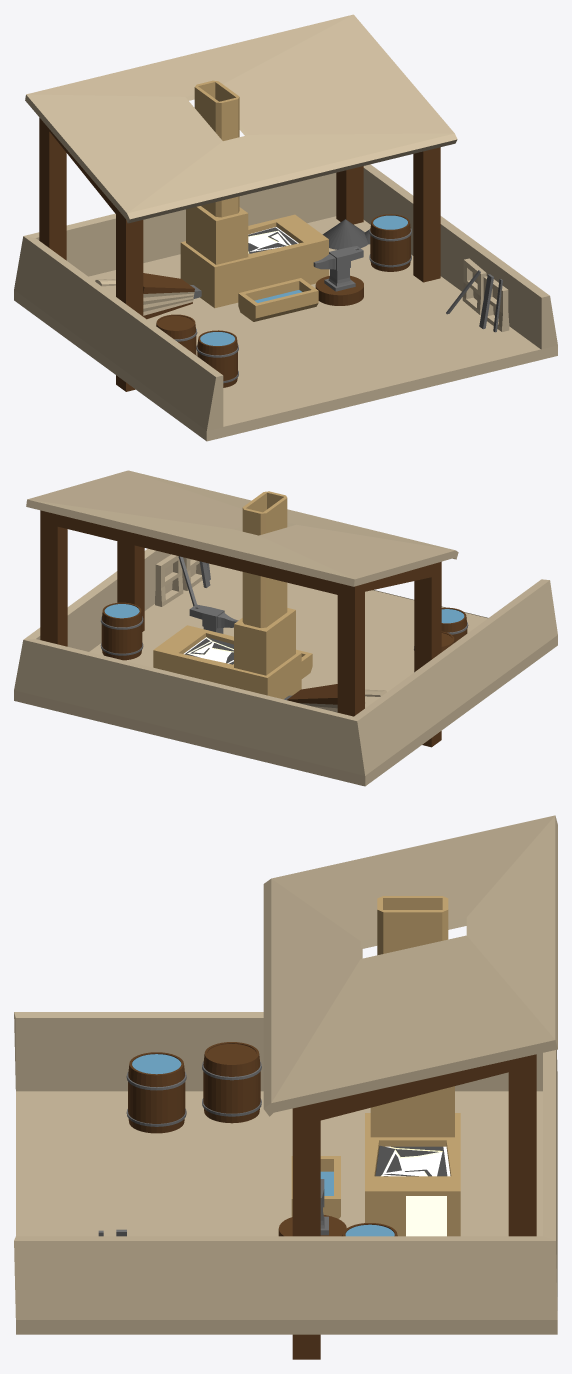
The model's file is Concept Model Forge.fbx.
3 renders of one model, top to bottom at view 1: azimuth 30°, elevation 25°; view 2: azimuth 150°, elevation 25°; view 3: azimuth 270°, elevation 25°, orthographic. The views are drawn at different scales.
Visible parts, largest first — view 1: Cube; view 2: Cube; view 3: Cube.
Boxes of the visible parts, bbox=[...] form: Cube: bbox=[14, 14, 557, 441]; Cube: bbox=[14, 470, 557, 786]; Cube: bbox=[14, 815, 557, 1359].
Size of the model in its own units: 1673 by 1075 by 1598.
